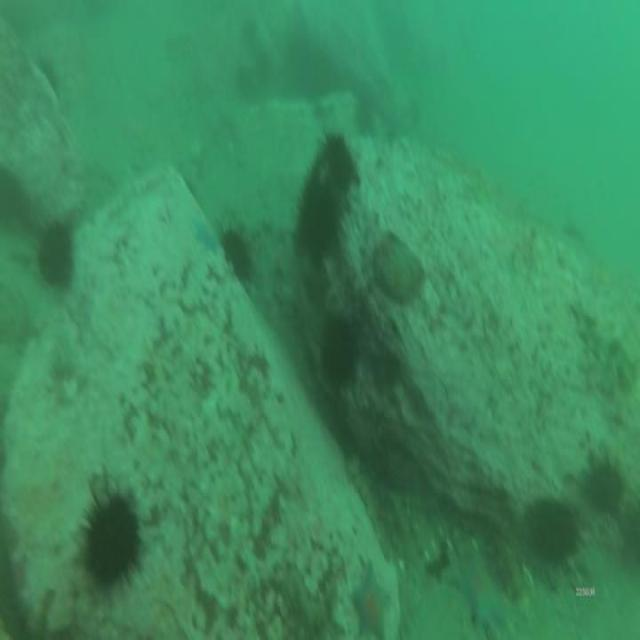echinus: (76, 476, 143, 599), (521, 494, 585, 576), (316, 308, 362, 390), (294, 183, 342, 261), (578, 449, 628, 523), (33, 215, 77, 297), (318, 128, 358, 202), (219, 221, 255, 288), (621, 496, 640, 577), (33, 54, 61, 98), (235, 65, 252, 98), (255, 47, 272, 79), (242, 17, 258, 41)
holothurian: (567, 296, 637, 396), (342, 447, 394, 555), (480, 522, 529, 608), (401, 486, 441, 570)
starfish: (450, 550, 512, 627), (349, 558, 393, 640), (188, 212, 222, 253)
